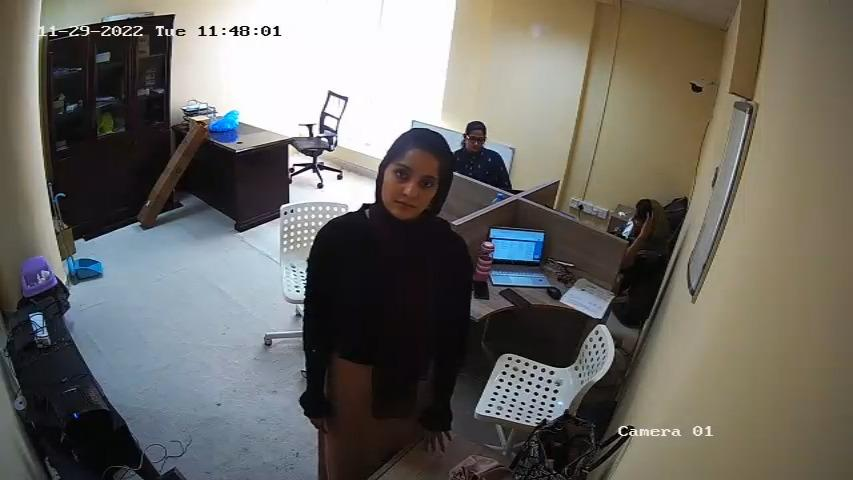no_apron: (336, 226, 447, 388)
